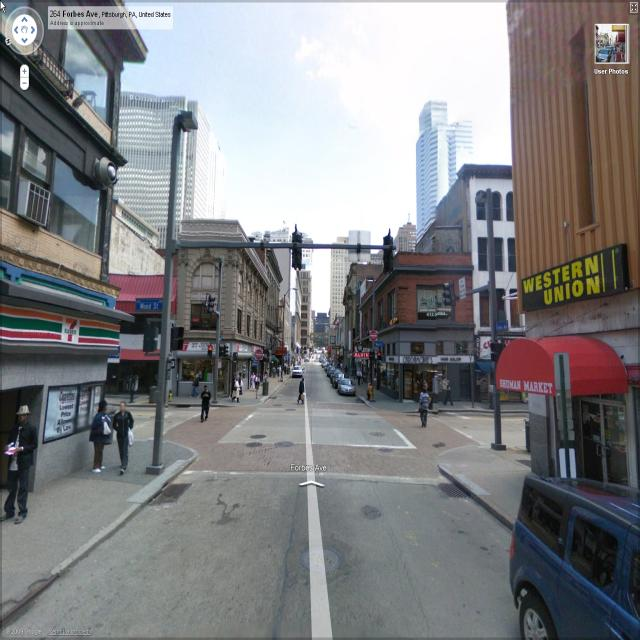b_1: (508, 7, 634, 525), (1, 2, 116, 372), (364, 239, 474, 400), (467, 165, 530, 422), (106, 80, 208, 238), (175, 214, 259, 392), (414, 98, 476, 225), (328, 221, 368, 321), (340, 267, 372, 377), (265, 245, 283, 368), (394, 214, 422, 260), (298, 264, 306, 370)
